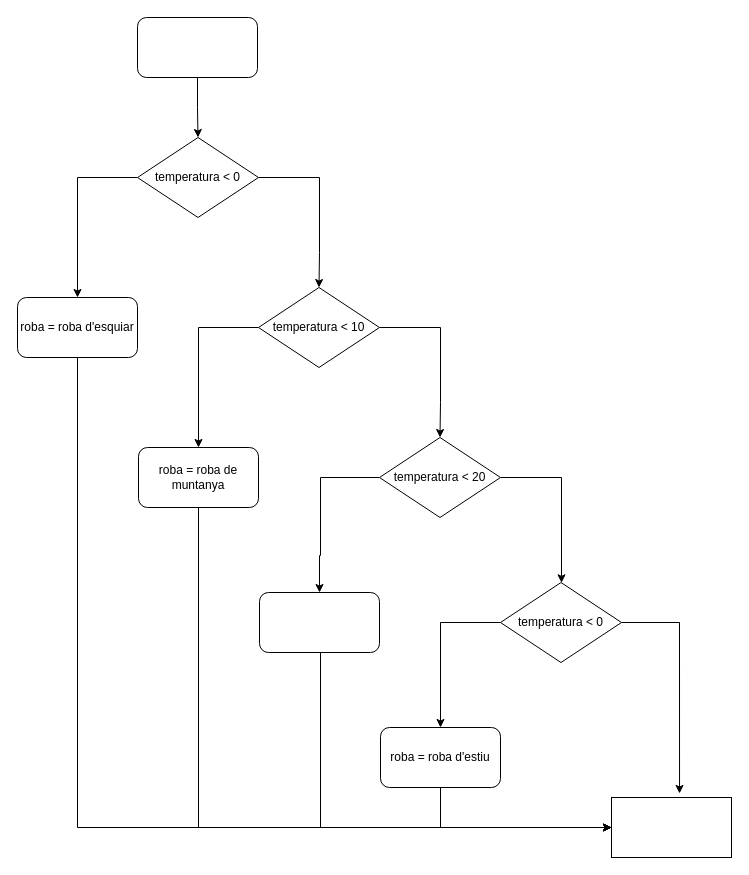
Image size: 749x875. Some labels were removed from this diagram. Here are the shapes that lost their labels. From the top down, the centre of each, then its label:
At point (197, 47): "roba = res".
At point (319, 622): "roba = roba d'hivern".
At point (671, 827): "return roba".
